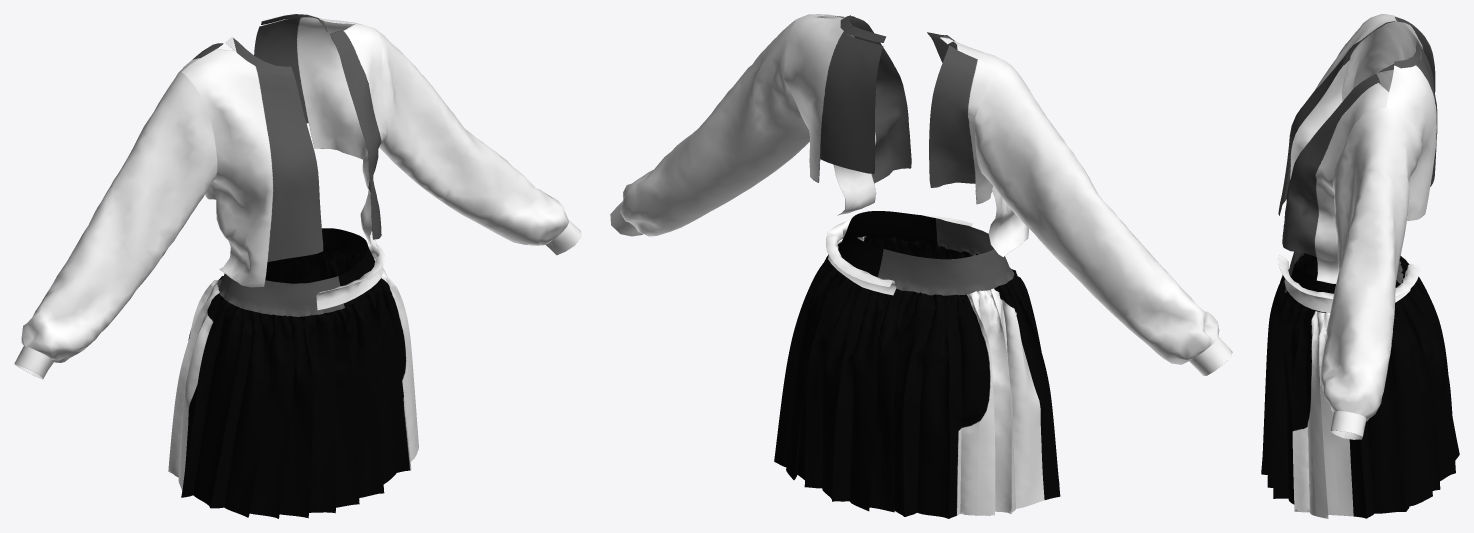
Rendered from Cloth_001.fbx.
The picture shows the model from 3 angles, left to right: view 1: azimuth 30°, elevation 25°; view 2: azimuth 150°, elevation 25°; view 3: azimuth 270°, elevation 25°; orthographic projection. The views are drawn at different scales.
Parts seen in each view (by area): view 1: Cloth_001; view 2: Cloth_001; view 3: Cloth_001.
Boxes of the visible parts, x1,y1,x2,y2 form: Cloth_001: [14, 14, 581, 518]; Cloth_001: [610, 14, 1232, 518]; Cloth_001: [1261, 14, 1459, 518].
Size of the model in its own units: 106 by 78.96 by 32.5.
